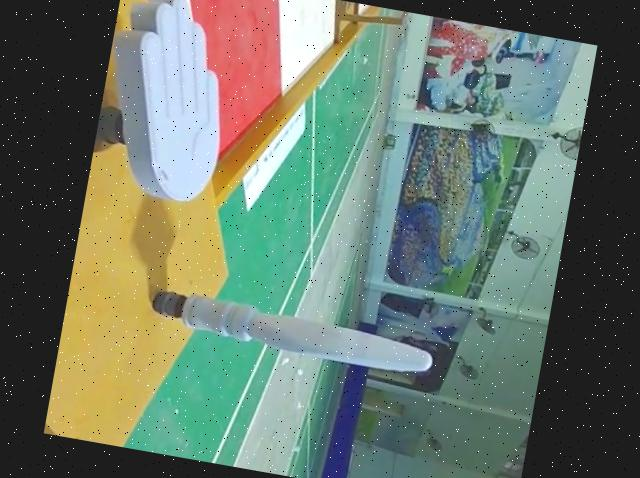Hand: (86, 0, 249, 210)
Sph: (141, 282, 439, 381)
